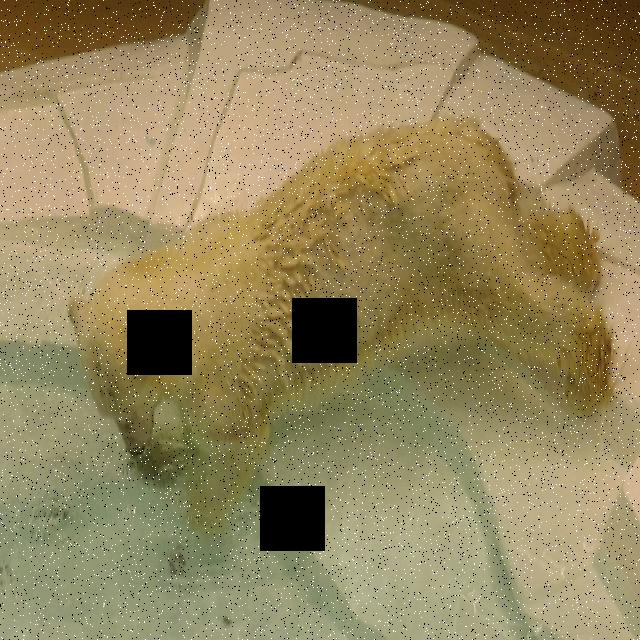Bear: (63, 108, 620, 473)
